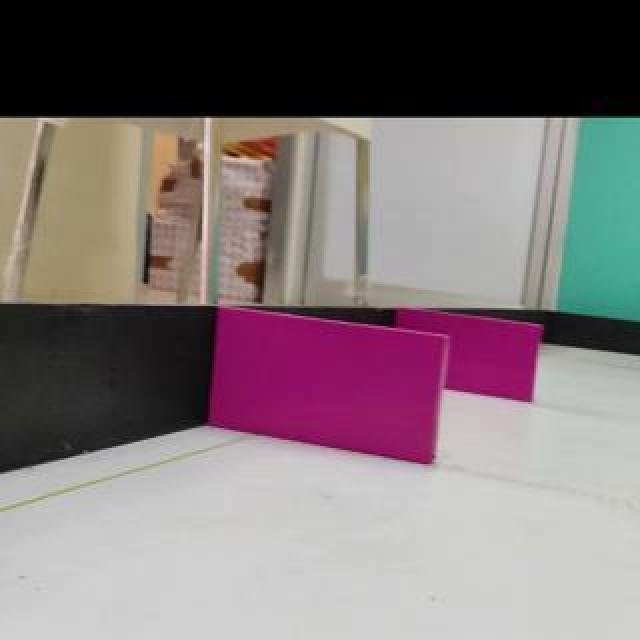xparking: (208, 309, 445, 465), (445, 316, 540, 403)
